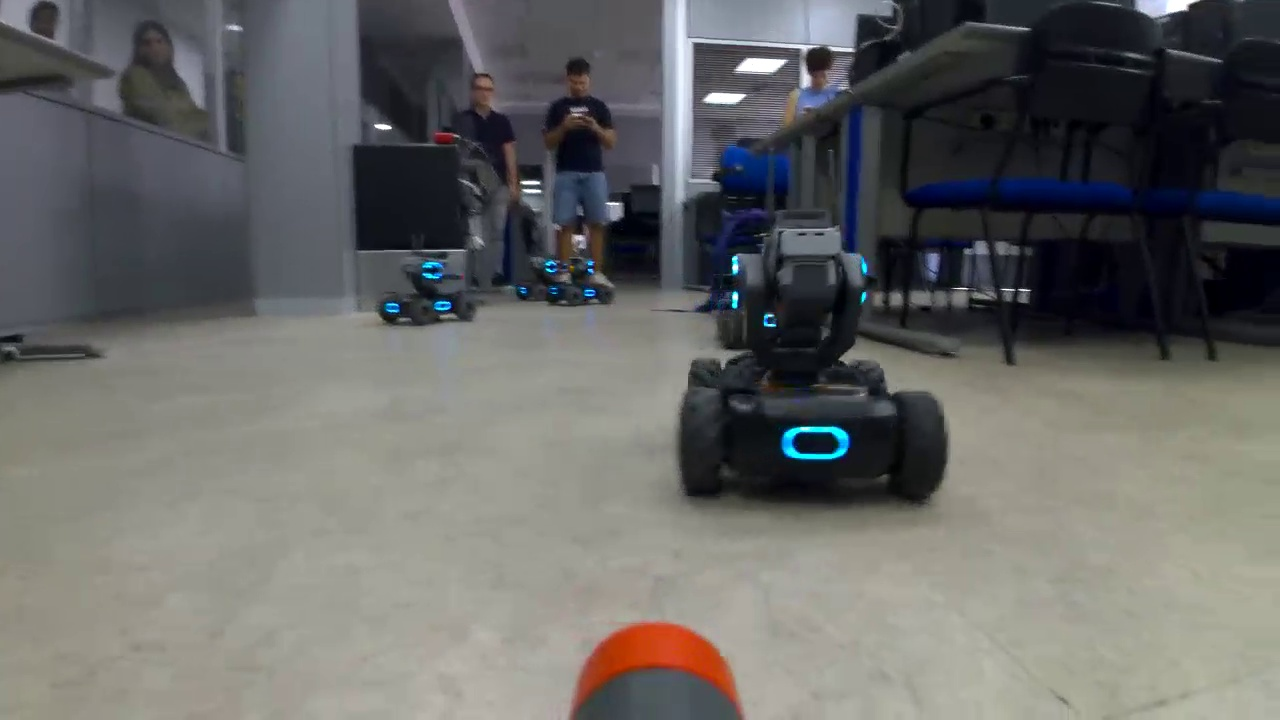robot: (673, 206, 948, 516), (715, 244, 823, 352), (373, 244, 480, 334), (546, 252, 620, 311), (511, 253, 569, 304)
